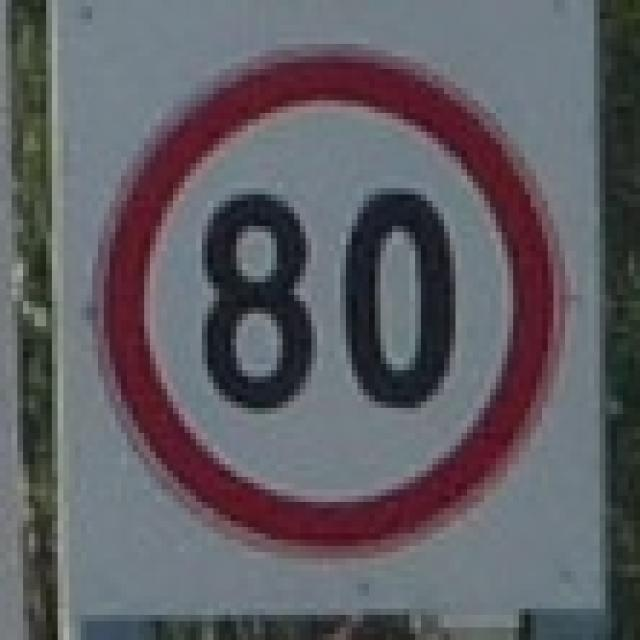Speed Limit -80-: (193, 183, 463, 424)
